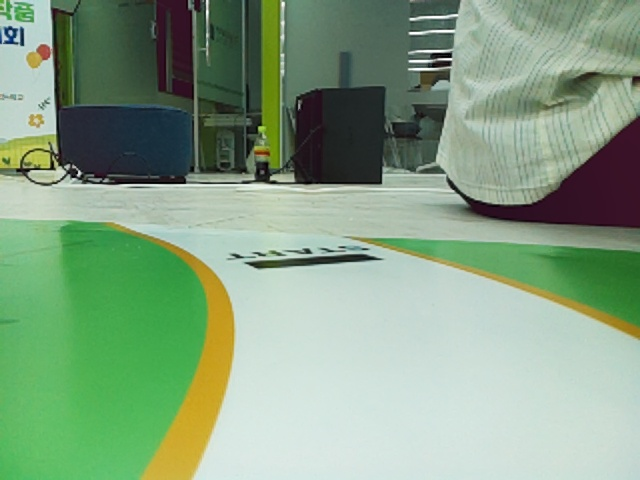apple: (38, 45, 50, 60)
